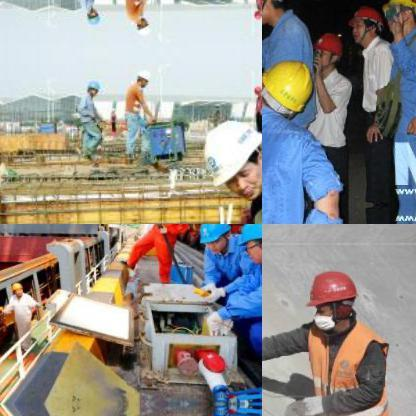Helmet: (198, 112, 261, 203), (303, 264, 357, 328), (262, 57, 314, 118), (346, 3, 384, 46), (314, 29, 342, 69), (235, 224, 261, 264), (198, 224, 232, 251), (386, 0, 415, 31), (262, 0, 287, 24), (82, 77, 100, 97), (82, 5, 100, 25), (134, 68, 150, 86), (134, 16, 150, 34), (9, 280, 23, 294), (251, 82, 261, 98), (251, 4, 261, 20)
